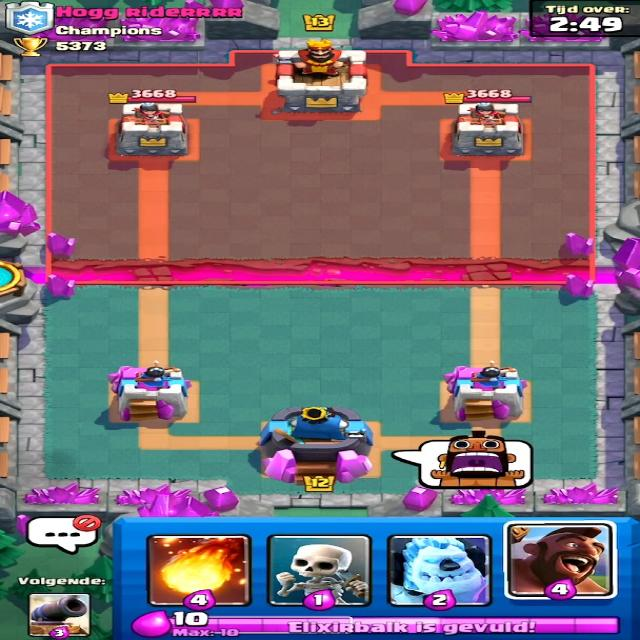Fireball_Card: (145, 534, 250, 606)
Hog_Rider_Card: (504, 519, 619, 600)
Ice_Golem_Card: (390, 536, 496, 608)
Skeleton_Card: (265, 536, 370, 604)
